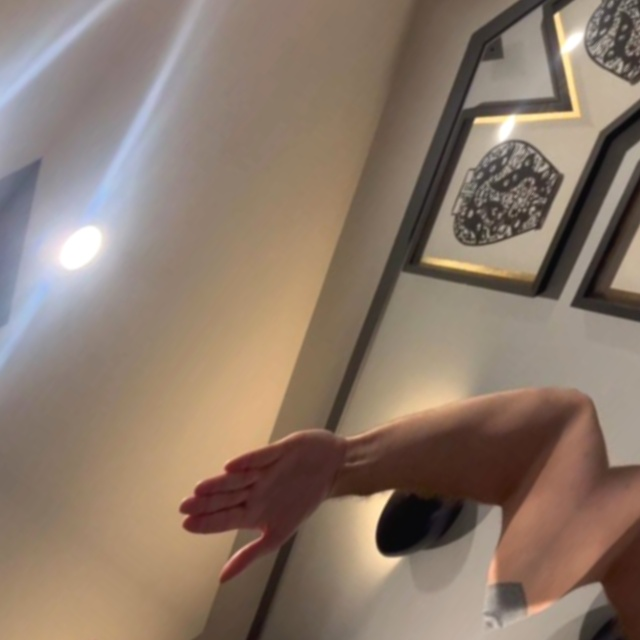Paper: (152, 375, 366, 606)
